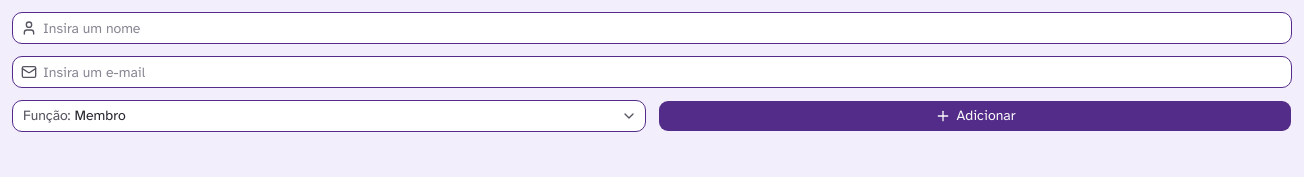
Scenario: AddMemberForm › bloqueia e-mail inválido e mostra o erro
Click the field labelled "nome": (664, 28) [37,13,1291,43]
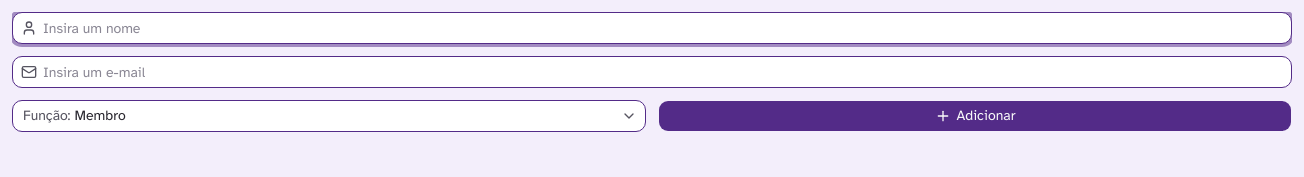
Type keys "Ana Souza"
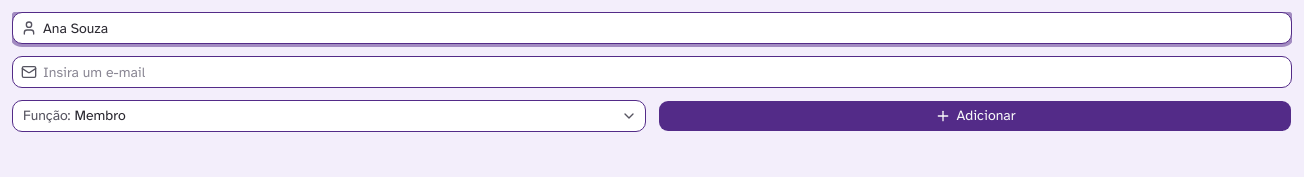
Click the field labelled "e-mail": (664, 72) [37,57,1291,87]
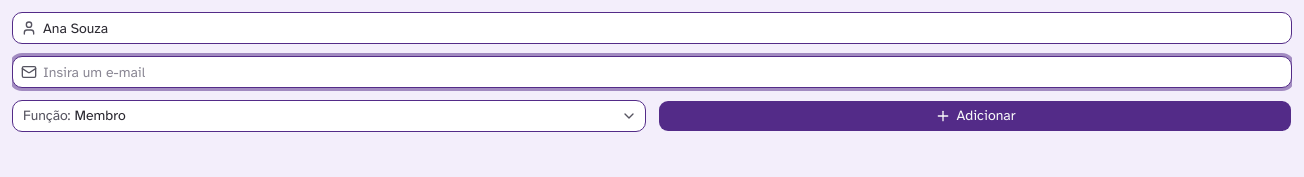
Type keys "isso-nao-e-email"
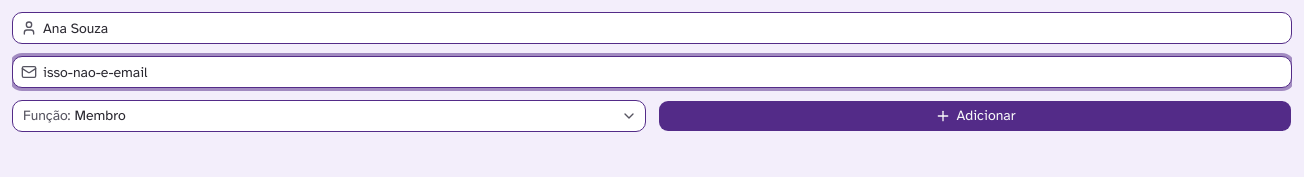
Click the button "Adicionar": (975, 116) [658,100,1292,132]
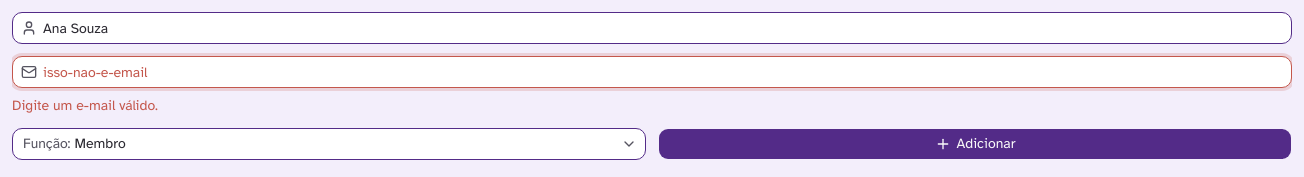
Result: the message reads "Digite um e-mail válido." at [12,97,158,114]
